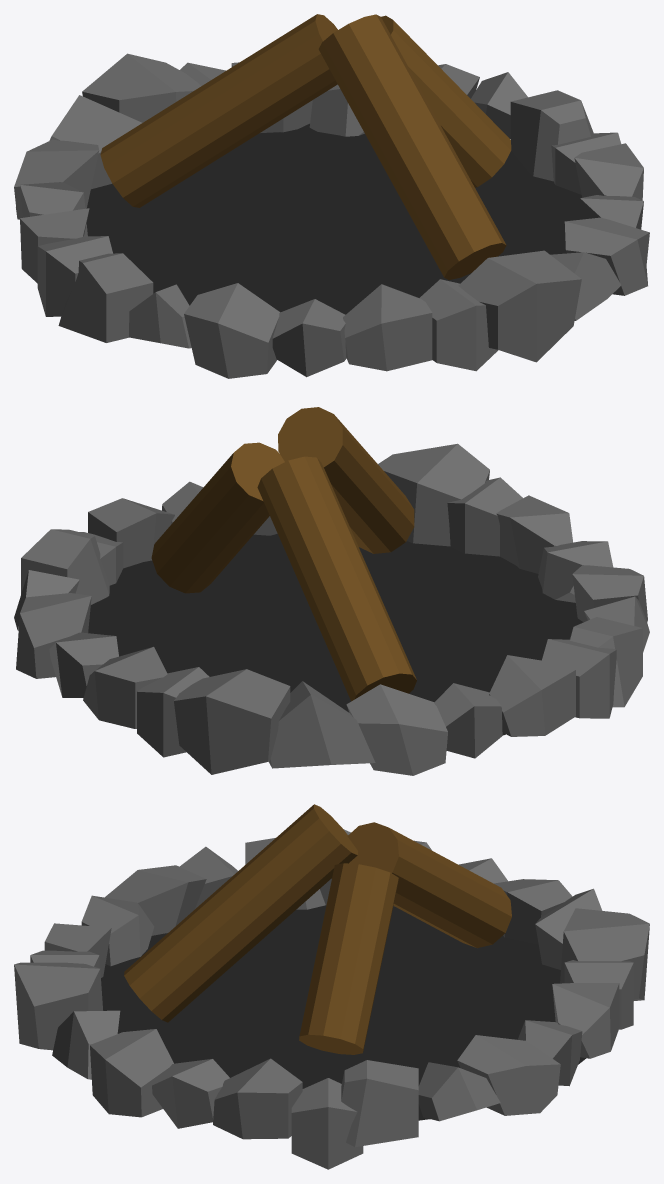
File: firePit.fbx
The picture shows the model from 3 angles, top to bottom: view 1: azimuth 30°, elevation 25°; view 2: azimuth 150°, elevation 25°; view 3: azimuth 270°, elevation 25°; orthographic projection. The views are drawn at different scales.
Visible parts, largest first — view 1: Circle, Cylinder, Cylinder.002, baseRock.019, baseRock.023, Cylinder.001, baseRock.020, baseRock.025, baseRock.012, baseRock.006, baseRock.022, baseRock.021 (+16 smaller); view 2: Circle, Cylinder.002, Cylinder.001, Cylinder, baseRock.006, baseRock.004, baseRock.019, baseRock.005, baseRock.001, baseRock.010, baseRock.007, baseRock.020 (+14 smaller); view 3: Circle, Cylinder, Cylinder.001, Cylinder.002, baseRock.019, baseRock.012, baseRock.017, baseRock.010, baseRock.014, baseRock.006, baseRock.016, baseRock.023 (+14 smaller).
Part boxes in pixels (x1,y1,x2,y2): Circle: [86, 123, 582, 314]; Cylinder: [318, 14, 506, 279]; Cylinder.002: [100, 14, 337, 207]; baseRock.019: [458, 250, 581, 362]; baseRock.023: [184, 283, 280, 378]; Cylinder.001: [381, 15, 511, 187]; baseRock.020: [343, 284, 432, 371]; baseRock.025: [58, 253, 153, 342]; baseRock.012: [510, 90, 593, 181]; baseRock.006: [82, 53, 200, 122]; baseRock.022: [419, 279, 498, 371]; baseRock.021: [272, 299, 346, 377]; Circle: [88, 534, 583, 735]; Cylinder.002: [257, 456, 416, 701]; Cylinder.001: [151, 442, 284, 593]; Cylinder: [278, 407, 414, 553]; baseRock.006: [174, 669, 290, 774]; baseRock.004: [346, 684, 447, 775]; baseRock.019: [378, 443, 489, 546]; baseRock.005: [268, 681, 375, 768]; baseRock.001: [489, 655, 575, 736]; baseRock.010: [16, 593, 91, 678]; baseRock.007: [83, 646, 167, 728]; baseRock.020: [496, 495, 573, 573]; Circle: [101, 905, 585, 1120]; Cylinder: [124, 804, 357, 1022]; Cylinder.001: [299, 863, 398, 1054]; Cylinder.002: [347, 822, 511, 948]; baseRock.019: [14, 962, 103, 1050]; baseRock.012: [341, 1060, 418, 1147]; baseRock.017: [90, 1029, 173, 1117]; baseRock.010: [457, 1035, 560, 1115]; baseRock.014: [213, 1058, 302, 1139]; baseRock.006: [560, 908, 649, 1000]; baseRock.016: [291, 1078, 363, 1169]; baseRock.023: [104, 865, 206, 935].
Bounding box in the file's own units: 228 × 95.43 × 230.
